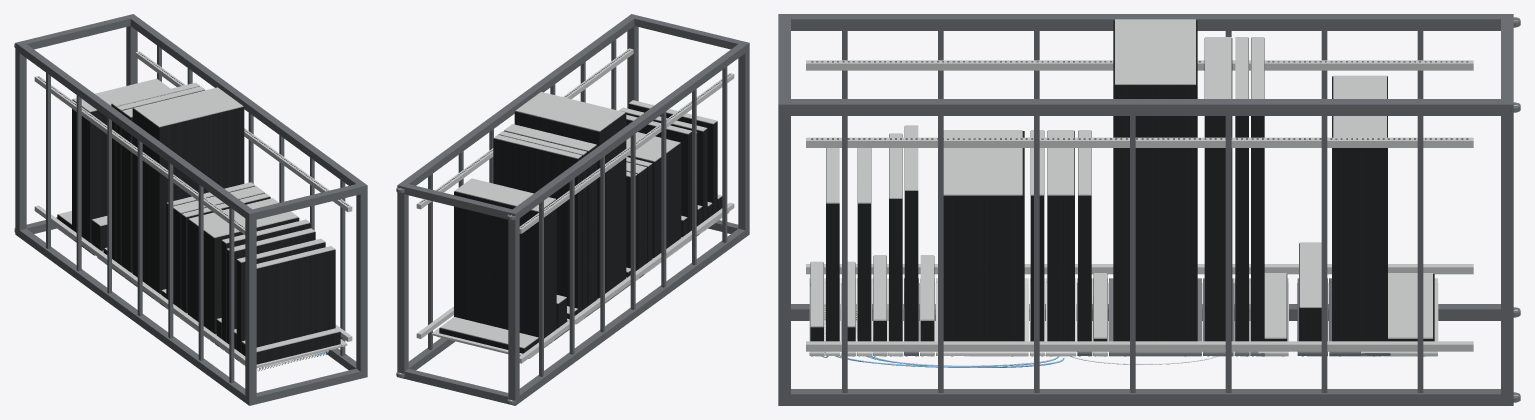
The model's file is cisco-enterprise-42u.glb.
3 renders of one model, left to right at view 1: azimuth 30°, elevation 25°; view 2: azimuth 150°, elevation 25°; view 3: azimuth 270°, elevation 25°, orthographic. The views are drawn at different scales.
Parts seen in each view (by area): view 1: RACK_FRAME__nexus_black, UCS_5108__steel_textured, SIDE_BRACES__nexus_black, C9300_48P__steel_textured, MOUNTING_RAILS__cisco_grey_dark, CISCO_UPS__steel_textured, C9404R__steel_textured, UCS_5108__cisco_grey_dark, UCS_C240__steel_textured, C9404R__cisco_grey_dark, C9300_24P__steel_textured, C9500_48Y4C__steel_textured (+19 smaller); view 2: RACK_FRAME__nexus_black, CISCO_UPS__steel_textured, SIDE_BRACES__nexus_black, UCS_C220_B__steel_textured, MOUNTING_RAILS__cisco_grey_dark, UCS_5108__steel_textured, C9404R__steel_textured, UCS_5108__cisco_grey_dark, BLANK_BASE__cisco_grey_dark, UCS_C240__steel_textured, NEXUS_9336C__steel_textured, CISCO_UPS__cisco_grey_dark (+12 smaller); view 3: RACK_FRAME__nexus_black, MOUNTING_RAILS__cisco_grey_dark, UCS_5108__steel_textured, SIDE_BRACES__nexus_black, C9404R__steel_textured, CISCO_UPS__steel_textured, UCS_C240__steel_textured, UCS_5108__cisco_grey_dark, C9404R__cisco_grey_dark, ISR_4451X__steel_textured, BLANK_BASE__cisco_grey_dark, UCS_C220_B__steel_textured (+29 smaller).
Boxes of the visible parts, box(x1,y1,x2,y2) form: RACK_FRAME__nexus_black: box(15, 14, 367, 405); UCS_5108__steel_textured: box(132, 107, 244, 293); SIDE_BRACES__nexus_black: box(46, 45, 345, 383); C9300_48P__steel_textured: box(256, 249, 335, 347); MOUNTING_RAILS__cisco_grey_dark: box(34, 51, 352, 364); CISCO_UPS__steel_textured: box(72, 99, 107, 242); C9404R__steel_textured: box(187, 217, 299, 334); UCS_5108__cisco_grey_dark: box(133, 87, 243, 127); UCS_C240__steel_textured: box(121, 111, 132, 272); C9404R__cisco_grey_dark: box(188, 198, 298, 237); C9300_24P__steel_textured: box(236, 242, 325, 353); C9500_48Y4C__steel_textured: box(226, 232, 315, 344); RACK_FRAME__nexus_black: box(397, 14, 749, 405); CISCO_UPS__steel_textured: box(454, 191, 556, 341); SIDE_BRACES__nexus_black: box(428, 39, 727, 376); UCS_C220_B__steel_textured: box(493, 138, 582, 311); MOUNTING_RAILS__cisco_grey_dark: box(416, 48, 734, 363); UCS_5108__steel_textured: box(514, 111, 626, 298); C9404R__steel_textured: box(627, 143, 681, 258); UCS_5108__cisco_grey_dark: box(515, 92, 625, 131); BLANK_BASE__cisco_grey_dark: box(431, 317, 553, 358); UCS_C240__steel_textured: box(504, 131, 597, 306); NEXUS_9336C__steel_textured: box(626, 119, 691, 232); CISCO_UPS__cisco_grey_dark: box(454, 178, 555, 211); RACK_FRAME__nexus_black: box(778, 14, 1513, 405); MOUNTING_RAILS__cisco_grey_dark: box(806, 60, 1473, 351); UCS_5108__steel_textured: box(1113, 20, 1197, 341); SIDE_BRACES__nexus_black: box(842, 31, 1423, 392); C9404R__steel_textured: box(943, 131, 1024, 341); CISCO_UPS__steel_textured: box(1332, 76, 1387, 341); UCS_C240__steel_textured: box(1204, 38, 1232, 341); UCS_5108__cisco_grey_dark: box(1115, 19, 1195, 84); C9404R__cisco_grey_dark: box(943, 130, 1022, 195); ISR_4451X__steel_textured: box(1047, 131, 1074, 341); BLANK_BASE__cisco_grey_dark: box(1361, 273, 1438, 356); UCS_C220_B__steel_textured: box(1251, 38, 1264, 341).
Size of the model in its own units: 0.609 by 0.9634 by 2.1.
29 materials, 5 textured.
